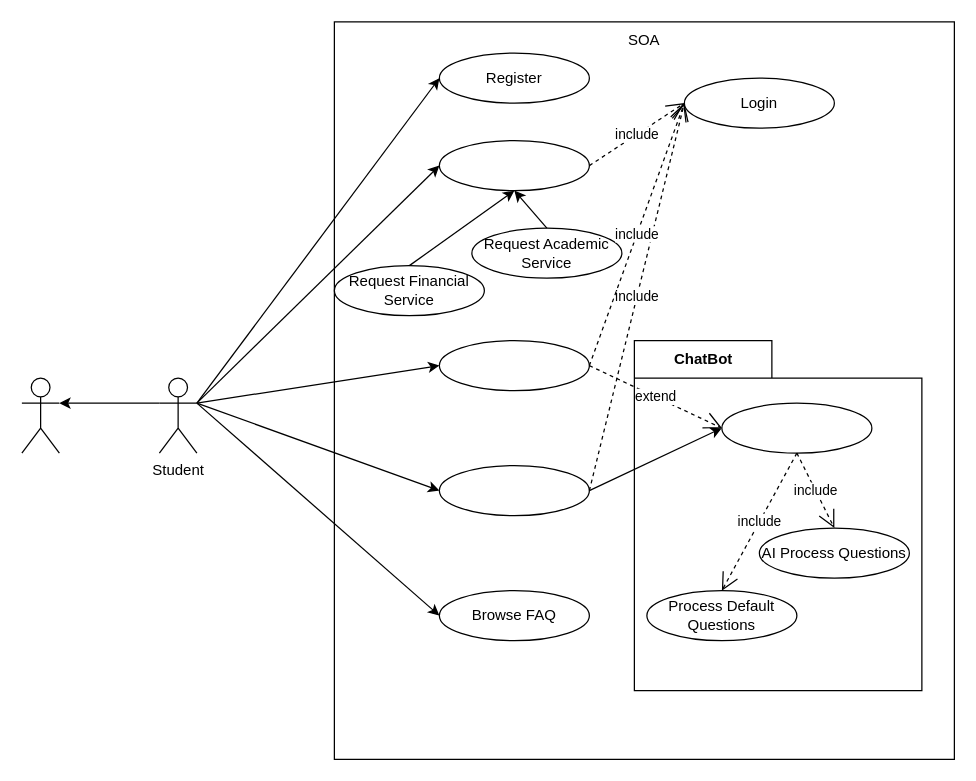
The diagram is 976 pixels wide and 781 high, and some of its shapes have lost their labels. The centre of each missing label's shape, as x and y in pixels:
"Answer the Question" belongs at pixel 796 427.
"Ask Question" belongs at pixel 513 490.
"Create A Ticket" belongs at pixel 513 365.
"Request Service" belongs at pixel 513 165.
"User" belongs at pixel 40 415.
